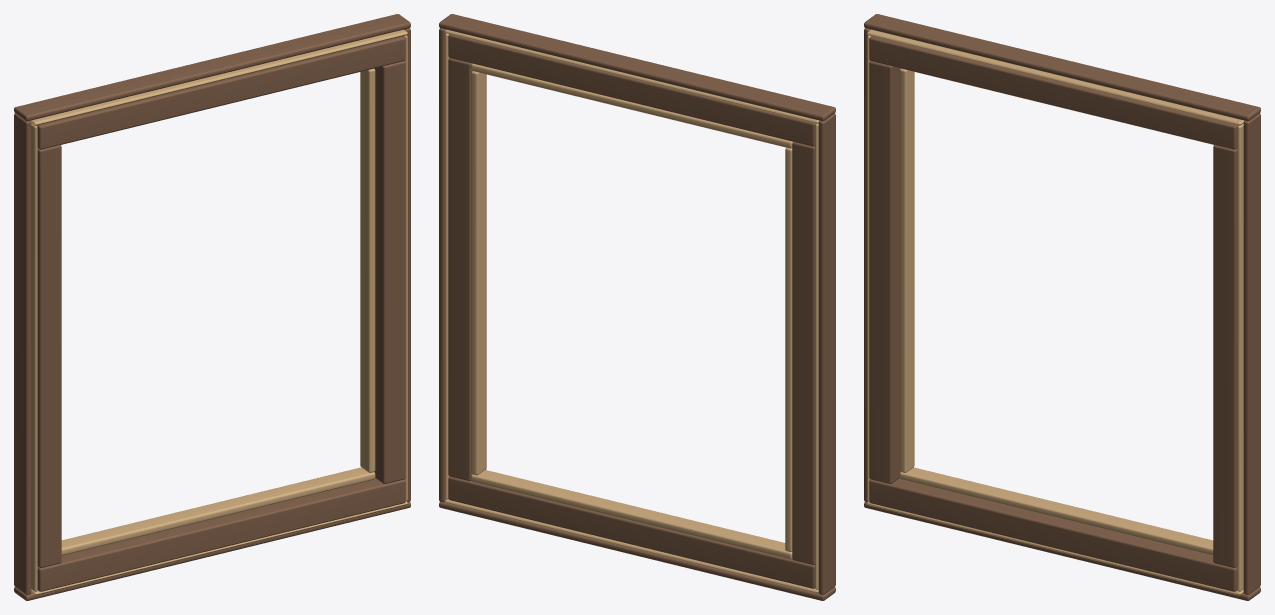
The model's file is echo-rebate.glb.
The picture shows the model from 3 angles, left to right: view 1: azimuth 30°, elevation 25°; view 2: azimuth 150°, elevation 25°; view 3: azimuth 330°, elevation 25°; orthographic projection.
Visible parts, largest first — view 1: Joinery.068; view 2: Joinery.068; view 3: Joinery.068.
Boxes of the visible parts, left/top/right/bottom form: Joinery.068: left=14, top=14, right=410, bottom=600; Joinery.068: left=439, top=14, right=835, bottom=600; Joinery.068: left=864, top=14, right=1260, bottom=600.
Bounding box in the file's own units: 2.45 × 2.95 × 0.19.
